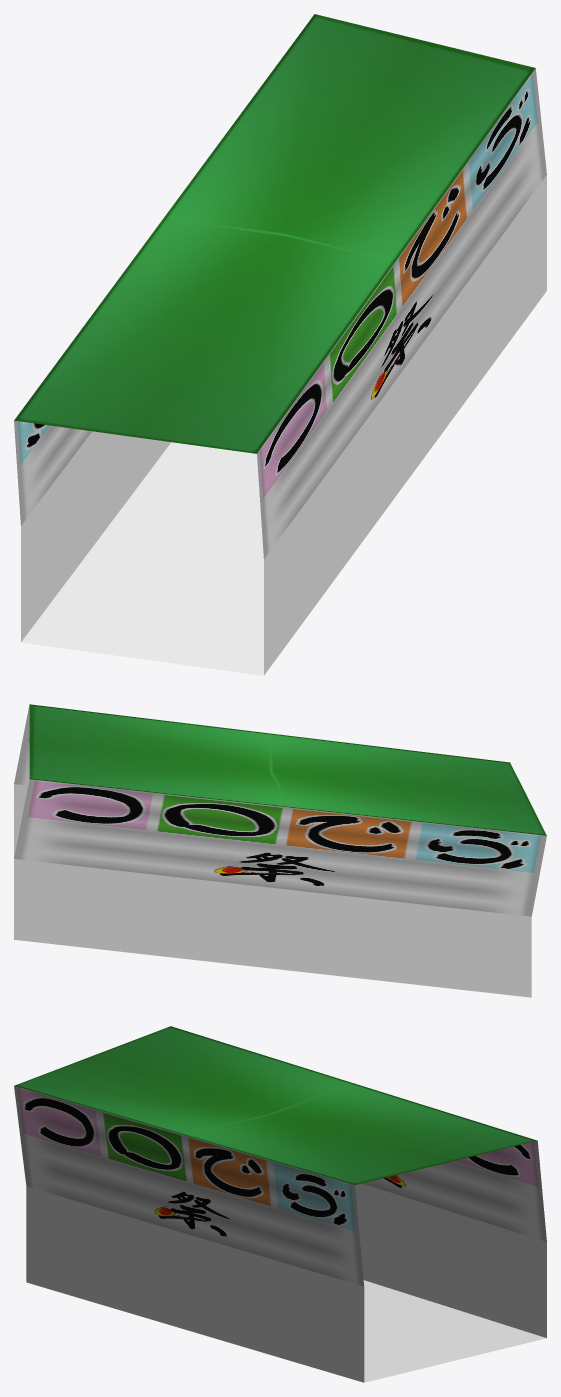
File: CourseWinter_Wall_R_15_11.fbx
The picture shows the model from 3 angles, top to bottom: view 1: azimuth 30°, elevation 25°; view 2: azimuth 150°, elevation 25°; view 3: azimuth 270°, elevation 25°; orthographic projection. The views are drawn at different scales.
Visible parts, largest first — view 1: polySurface577; view 2: polySurface577; view 3: polySurface577.
Part boxes in pixels (x1=…): polySurface577: x1=14, y1=14, x2=546, y2=675; polySurface577: x1=14, y1=704, x2=546, y2=997; polySurface577: x1=14, y1=1026, x2=546, y2=1382.
Bounding box in the file's own units: 5.84 × 2.98 × 5.02.
Materials: 1 (1 with a texture image).
